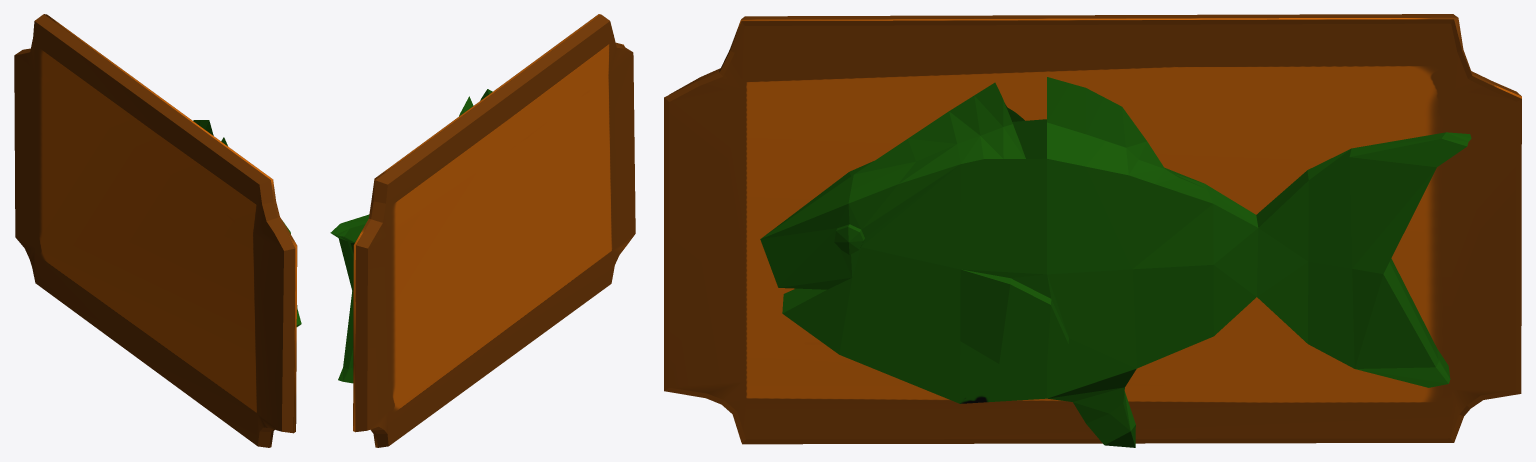
The model's file is Fish.fbx.
The picture shows the model from 3 angles, left to right: view 1: azimuth 30°, elevation 25°; view 2: azimuth 150°, elevation 25°; view 3: azimuth 270°, elevation 25°; orthographic projection. The views are drawn at different scales.
Parts seen in each view (by area): view 1: Box001; view 2: Box001, Fish; view 3: Box001, Fish.
Boxes of the visible parts, bbox=[...] form: Box001: bbox=[14, 14, 297, 447]; Box001: bbox=[353, 14, 635, 447]; Fish: bbox=[330, 89, 492, 383]; Box001: bbox=[664, 14, 1521, 444]; Fish: bbox=[760, 77, 1471, 447].
Size of the model in its own units: 2.01 by 6.22 by 11.38.
